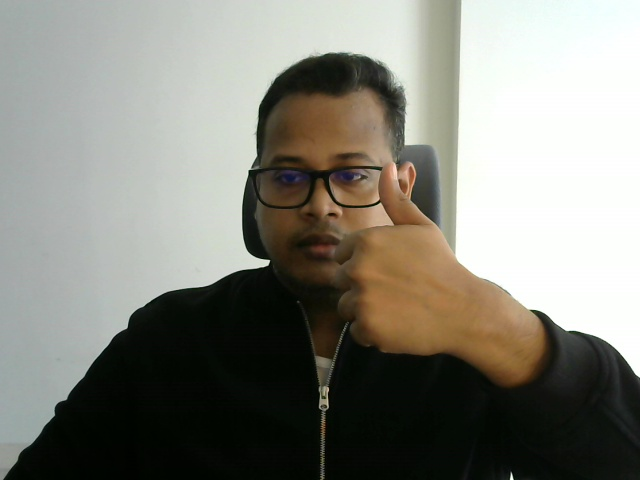ThumbsUp: (336, 162, 462, 355)
